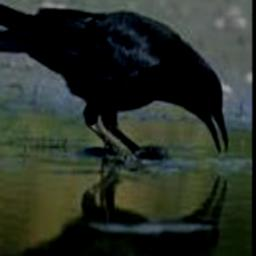Crow: (0, 0, 229, 161)
